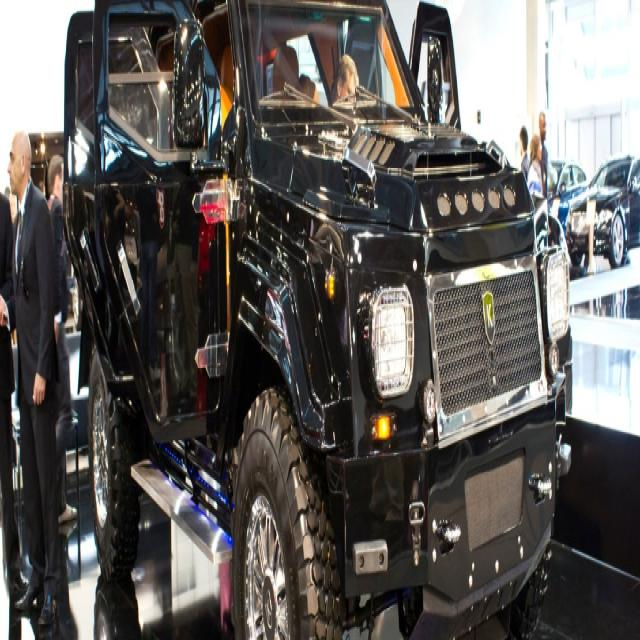body: (0, 125, 65, 638), (0, 134, 29, 617), (45, 152, 78, 525), (328, 50, 359, 112), (526, 130, 544, 197), (538, 109, 549, 200), (518, 123, 530, 181), (544, 40, 550, 110), (559, 178, 566, 196)
